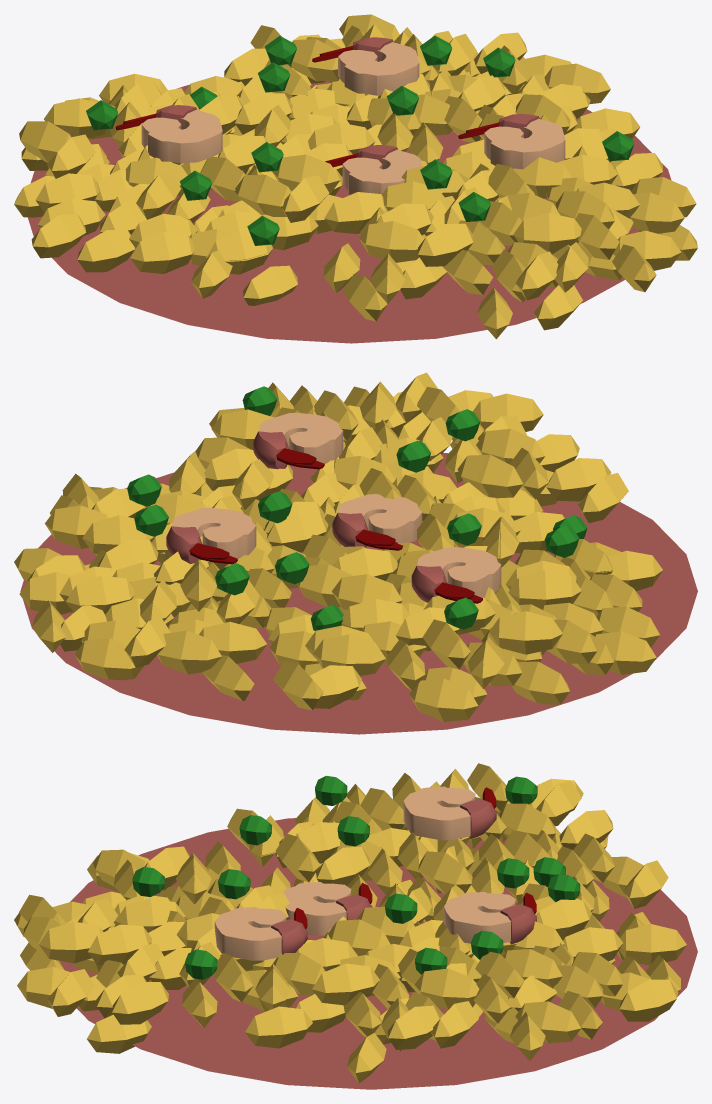
File: paella_lower_poly.fbx
The picture shows the model from 3 angles, top to bottom: view 1: azimuth 30°, elevation 25°; view 2: azimuth 150°, elevation 25°; view 3: azimuth 270°, elevation 25°; orthographic projection. The views are drawn at different scales.
Visible parts, largest first — view 1: sauce, prawnmeat (×4), paella_mix_model:rice88 (×2), paella_mix_model:rice75 (×2), paella_mix_model:rice13 (×2), paella_mix_model:rice67 (×2), paella_mix_model:rice6 (×2), paella_mix_model:rice127 (×2), paella_mix_model:rice31 (×2), paella_mix_model:rice33 (×2), paella_mix_model:rice69 (×2), paella_mix_model:rice_pile:rice125 (+88 smaller); view 2: sauce, prawnmeat (×4), shell (×3), paella_mix_model:rice6 (×2), paella_mix_model:rice31 (×2), paella_mix_model:rice33 (×2), paella_mix_model:rice75 (×2), paella_mix_model:rice44 (×2), paella_mix_model:rice82 (×2), paella_mix_model:rice88 (×2), paella_mix_model:rice_pile:rice10, paella_mix_model:rice35 (×2) (+90 smaller); view 3: sauce, prawnmeat (×4), paella_mix_model:rice53 (×2), paella_mix_model:rice162 (×2), paella_mix_model:rice31 (×2), paella_mix_model:rice6 (×2), paella_mix_model:rice33 (×2), paella_mix_model:rice13 (×2), paella_mix_model:rice75 (×2), paella_mix_model:rice51 (×2), paella_mix_model:rice44 (×2), paella_mix_model:rice35 (×2) (+76 smaller).
Part boxes in pixels (x1,y1,x2,y2): sauce: (27,80,671,343); prawnmeat (×4): (141,42,565,194); paella_mix_model:rice88 (×2): (515,63,610,300); paella_mix_model:rice75 (×2): (417,94,570,266); paella_mix_model:rice13 (×2): (498,45,581,253); paella_mix_model:rice67 (×2): (477,108,639,339); paella_mix_model:rice6 (×2): (432,33,614,228); paella_mix_model:rice127 (×2): (458,75,522,245); paella_mix_model:rice31 (×2): (474,32,619,259); paella_mix_model:rice33 (×2): (291,39,615,162); paella_mix_model:rice69 (×2): (382,122,444,211); paella_mix_model:rice_pile:rice125: (130,232,194,273); sauce: (20,453,697,734); prawnmeat (×4): (172,412,501,597); shell (×3): (253,431,447,602); paella_mix_model:rice6 (×2): (82,381,396,554); paella_mix_model:rice31 (×2): (45,372,437,548); paella_mix_model:rice33 (×2): (180,409,273,611); paella_mix_model:rice75 (×2): (169,429,545,493); paella_mix_model:rice44 (×2): (204,448,548,499); paella_mix_model:rice82 (×2): (266,468,401,552); paella_mix_model:rice88 (×2): (62,393,543,508); paella_mix_model:rice_pile:rice10: (489,611,562,654); paella_mix_model:rice35 (×2): (98,390,358,568); sauce: (59,818,697,1089); prawnmeat (×4): (214,786,515,960); paella_mix_model:rice53 (×2): (112,952,623,1024); paella_mix_model:rice162 (×2): (47,969,580,1043); paella_mix_model:rice31 (×2): (39,921,510,1023); paella_mix_model:rice6 (×2): (88,924,524,998); paella_mix_model:rice33 (×2): (213,899,591,1002); paella_mix_model:rice13 (×2): (78,898,479,1009); paella_mix_model:rice75 (×2): (114,859,379,1005); paella_mix_model:rice51 (×2): (182,927,622,1027); paella_mix_model:rice44 (×2): (144,846,325,994); paella_mix_model:rice35 (×2): (117,943,562,988).
Bounding box in the file's own units: 66.31 × 11.01 × 67.15.
